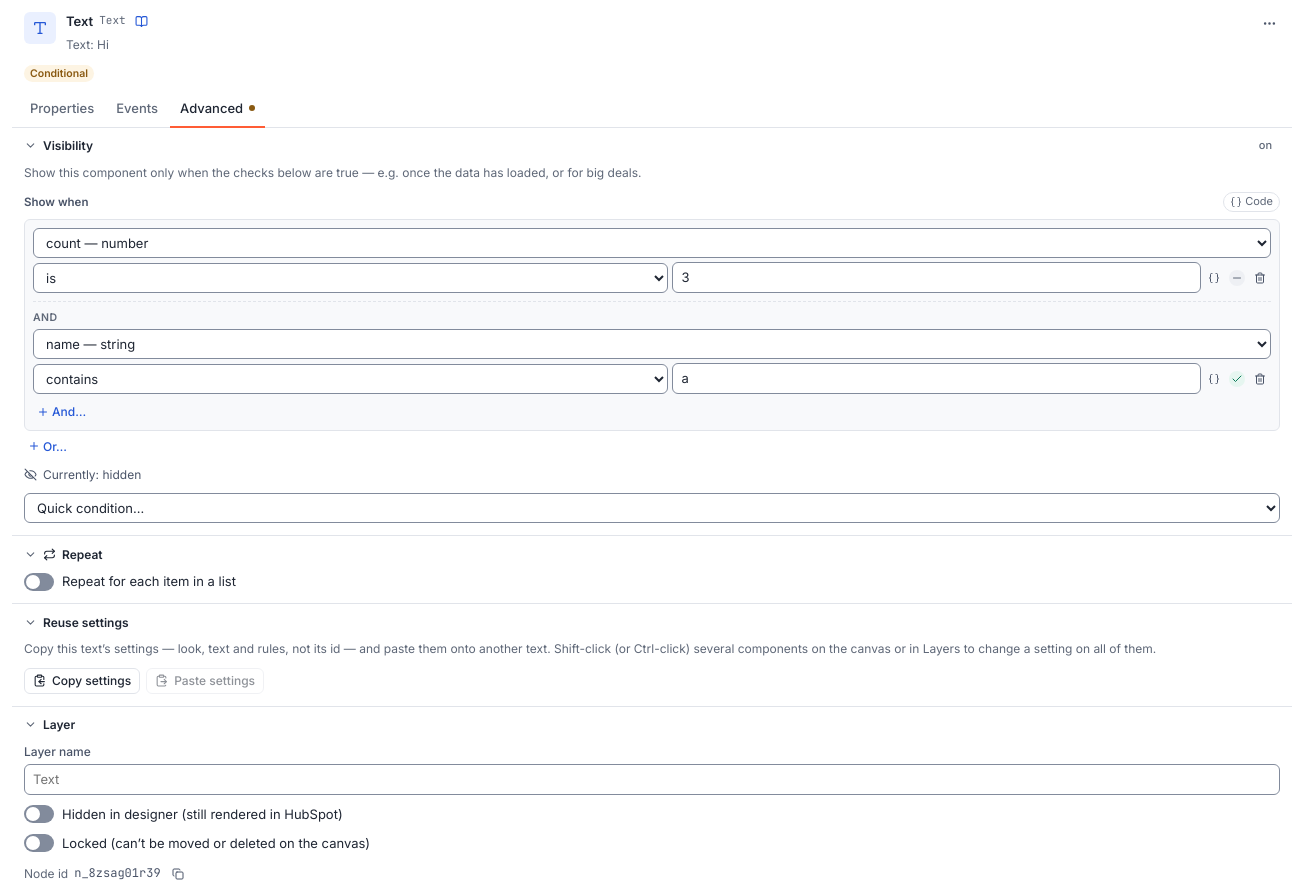
Test: condition builder: Advanced › Visibility › a value that doesn’t fit yet is shown as a problem and not saved until it is fixed
Clear the field named "Check 1: value" at (937, 278), box [672, 262, 1201, 293]
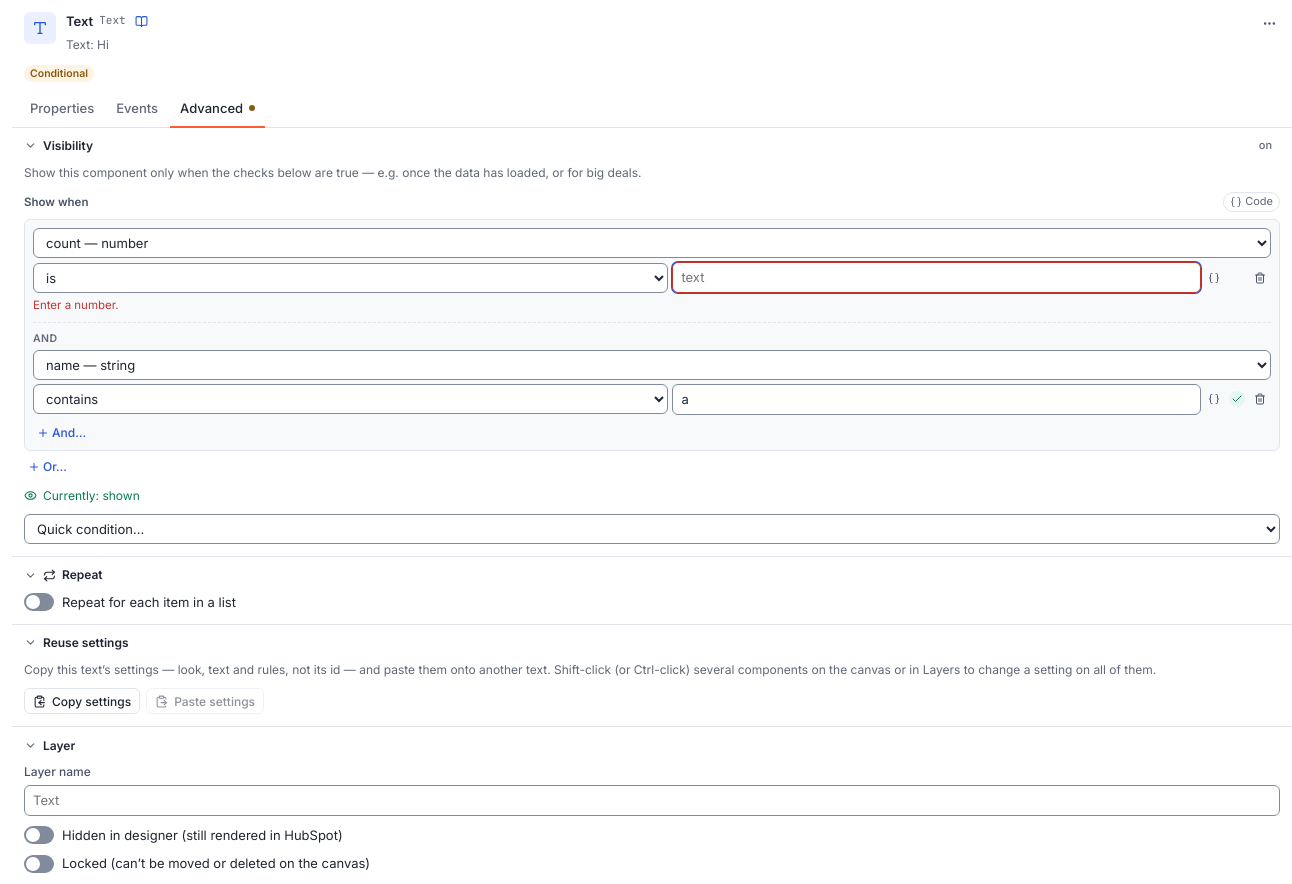
Result: the text "Enter a number." is shown at [33, 298, 119, 312]
Type "4" into the field with placeholder "text" at (937, 278), box [672, 262, 1201, 293]
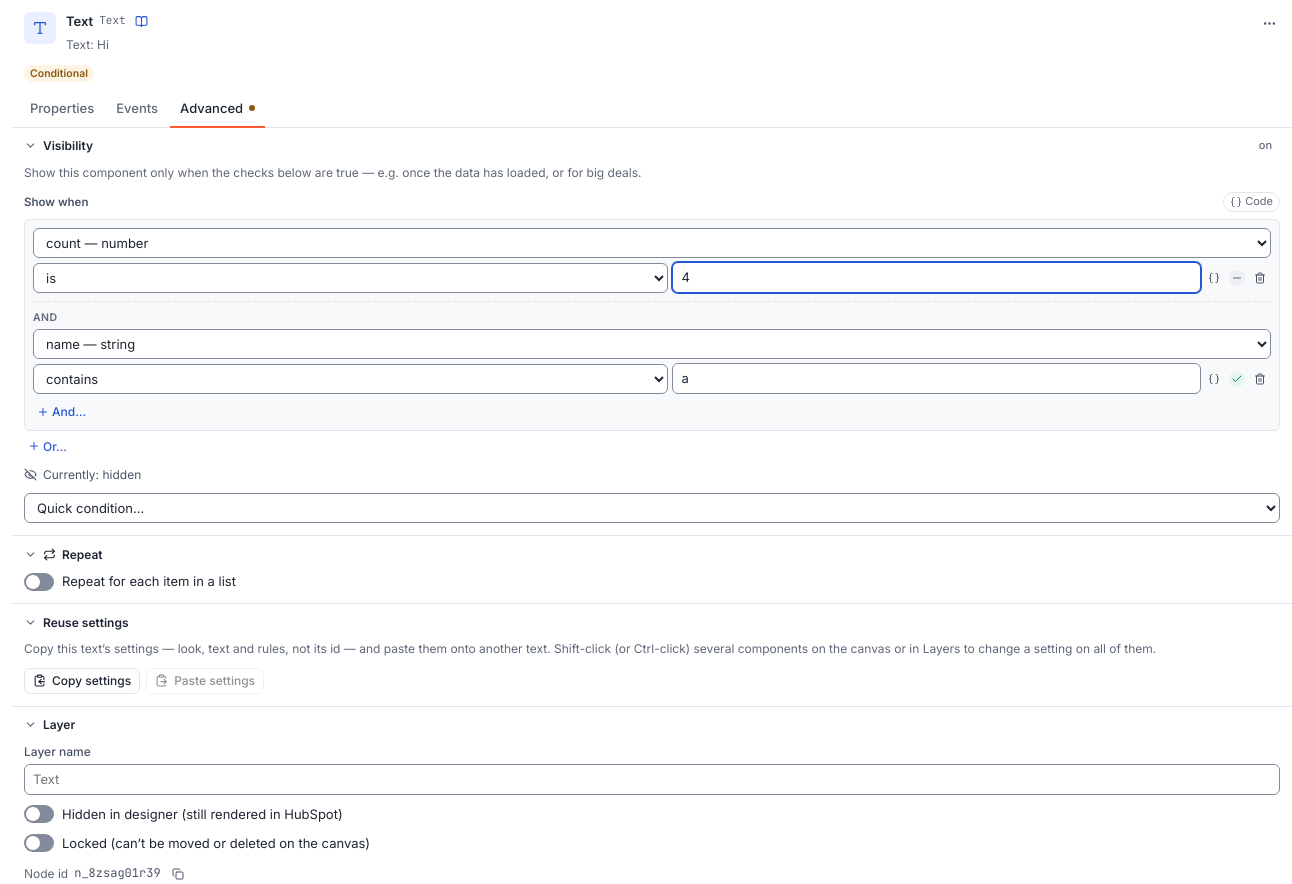
Result: the text "Enter a number." is gone
